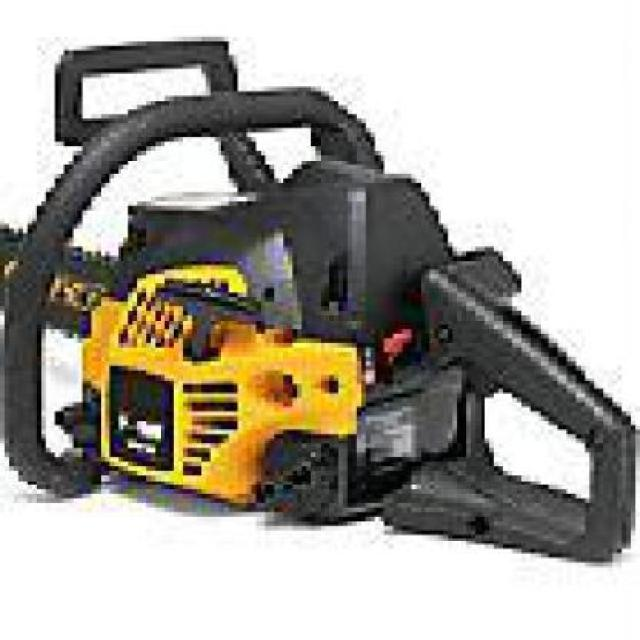Chainsaw: (0, 17, 640, 586)
